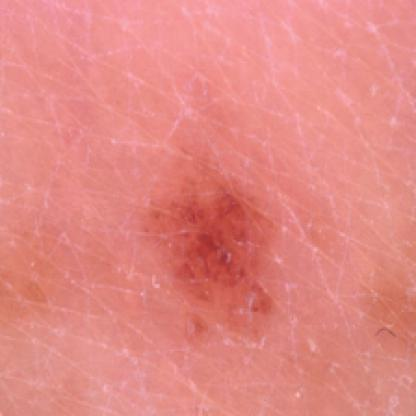benign: (160, 169, 290, 329)
